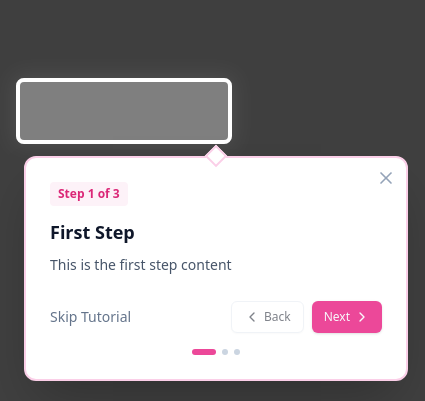
Test case: TutorialV2 Component › Navigation › should navigate to next step when Next button clicked
The image size is (425, 401).
Click the button "Next".
click(347, 317)  # box [312,301,382,333]
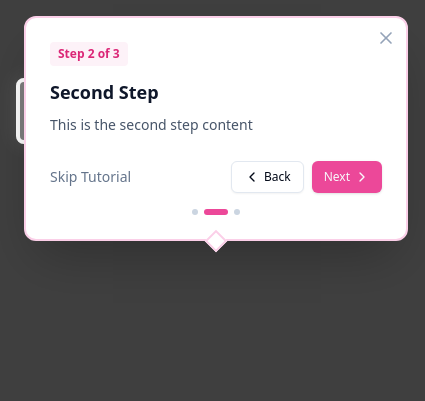
expect the heading "Second Step" is shown: met, box [50,80,159,104]
expect the text "Step 2 of 3" is shown: met, box [50,42,128,66]
